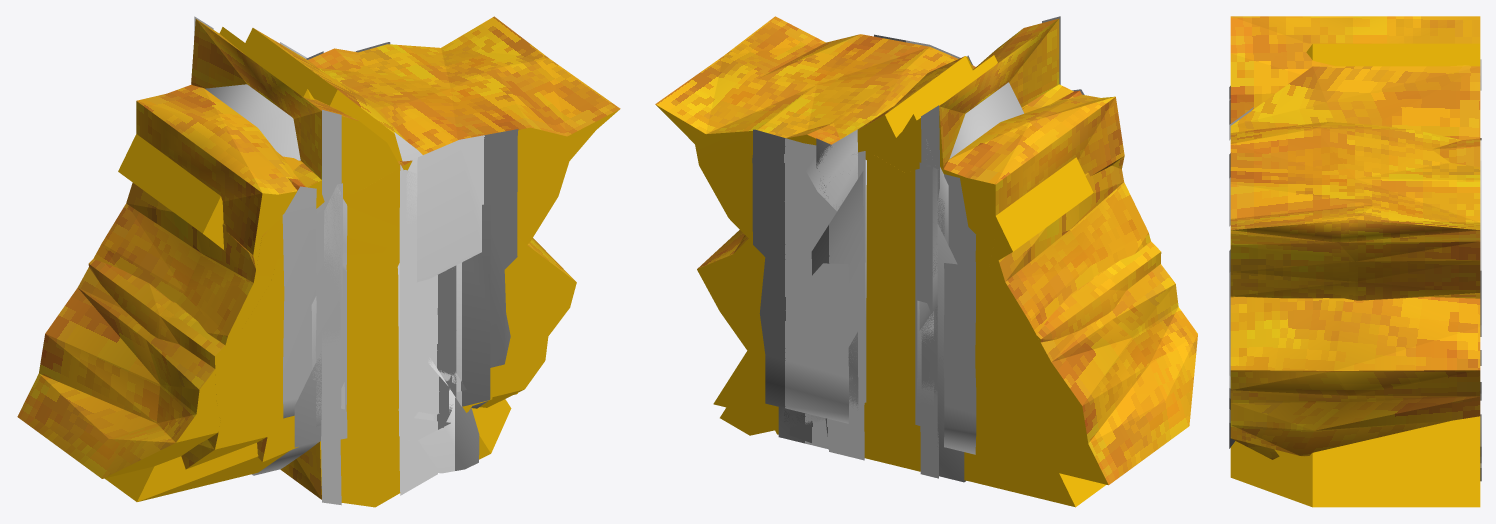
File: triforce_courage.obj
3 renders of one model, left to right at view 1: azimuth 30°, elevation 25°; view 2: azimuth 150°, elevation 25°; view 3: azimuth 270°, elevation 25°, orthographic. The views are drawn at different scales.
Parts seen in each view (by area): view 1: tforce6, tforce6_shine, tforce4, tforce5, tforce2, tforce7, tforce5_shine, tforce2_shine, tforce8_shine, tforce3, tforce3_shine, tforce8 (+3 smaller); view 2: tforce6, tforce6_shine, tforce4, tforce2, tforce5, tforce7, tforce4_shine, tforce2_shine, tforce5_shine, tforce3, tforce8_shine, tforce8 (+4 smaller); view 3: tforce2, tforce6, tforce7, tforce5, tforce8, tforce1, tforce7_shine.
Part boxes in pixels (x1,y1,x2,y2): tforce6: (17,16,620,478); tforce6_shine: (282,42,518,418); tforce4: (136,84,471,462); tforce5: (191,19,400,507); tforce2: (105,28,576,501); tforce7: (88,258,517,469); tforce5_shine: (194,16,448,505); tforce2_shine: (252,42,490,475); tforce8_shine: (205,84,479,473); tforce3: (118,134,514,313); tforce3_shine: (324,170,456,427); tforce8: (219,27,511,459); tforce6: (655,16,1197,485); tforce6_shine: (752,34,1084,454); tforce4: (759,84,1124,387); tforce2: (697,56,1106,507); tforce5: (864,18,1059,471); tforce7: (713,132,1161,476); tforce4_shine: (811,166,932,425); tforce2_shine: (778,55,973,482); tforce5_shine: (825,16,1060,478); tforce3: (989,106,1093,265); tforce8_shine: (789,82,1023,446); tforce8: (720,55,997,435); tforce2: (1230,66,1480,459); tforce6: (1230,122,1480,300); tforce7: (1275,416,1480,497); tforce5: (1230,16,1480,123); tforce8: (1230,43,1480,507); tforce1: (1432,138,1480,167); tforce7_shine: (1229,102,1481,463).
Bounding box in the file's own units: 34.04 × 27.92 × 15.62.
Materials: 2 (2 with a texture image).
